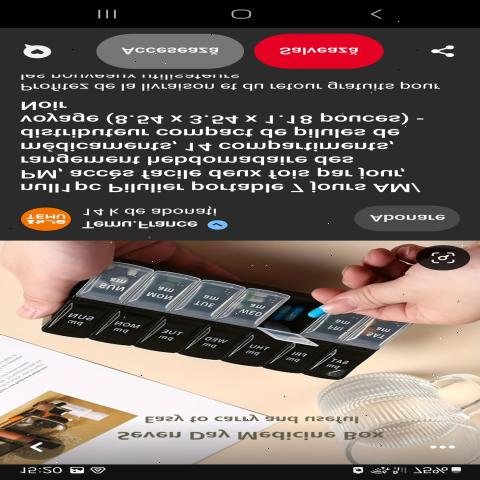PillBox: (38, 262, 430, 383)
